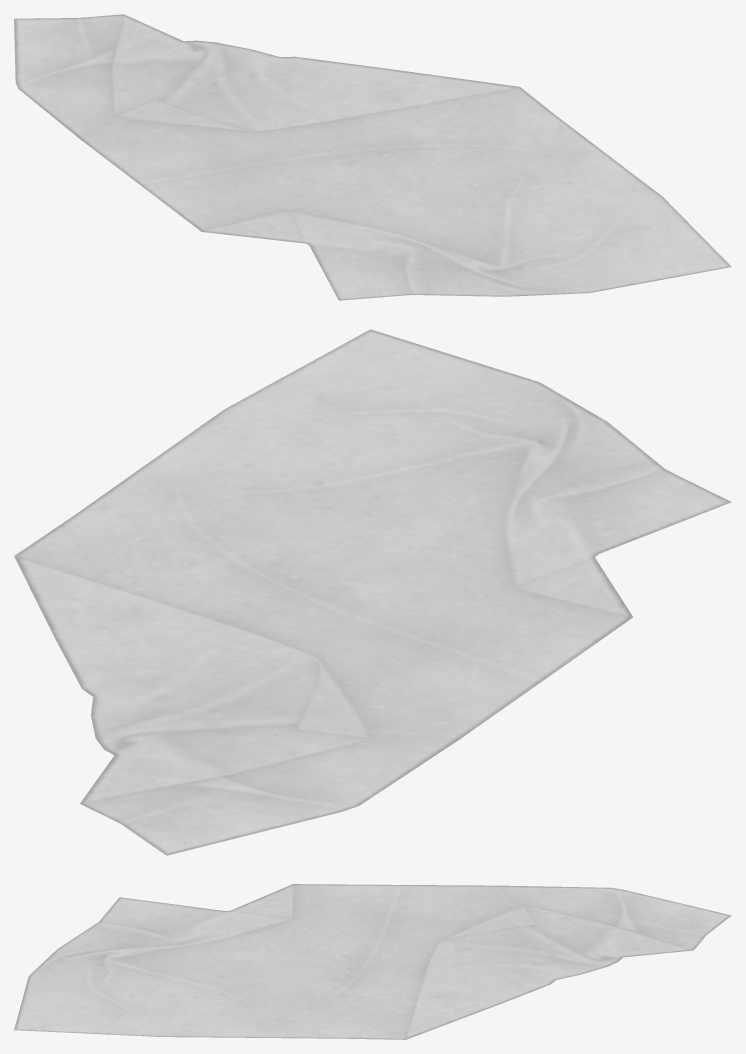
The model's file is Pfb_Canvas_Ground_2x4__3.fbx.
The picture shows the model from 3 angles, top to bottom: view 1: azimuth 30°, elevation 25°; view 2: azimuth 150°, elevation 25°; view 3: azimuth 270°, elevation 25°; orthographic projection. The views are drawn at different scales.
Visible parts, largest first — view 1: Mat_Canvas_Ground_Dark; view 2: Mat_Canvas_Ground_Dark; view 3: Mat_Canvas_Ground_Dark.
Boxes of the visible parts, x1,y1,x2,y2 form: Mat_Canvas_Ground_Dark: (14, 14, 731, 300); Mat_Canvas_Ground_Dark: (14, 329, 731, 855); Mat_Canvas_Ground_Dark: (14, 884, 731, 1039).
Size of the model in its own units: 2.01 by 0.00538 by 3.91.
1 material, 1 textured.
